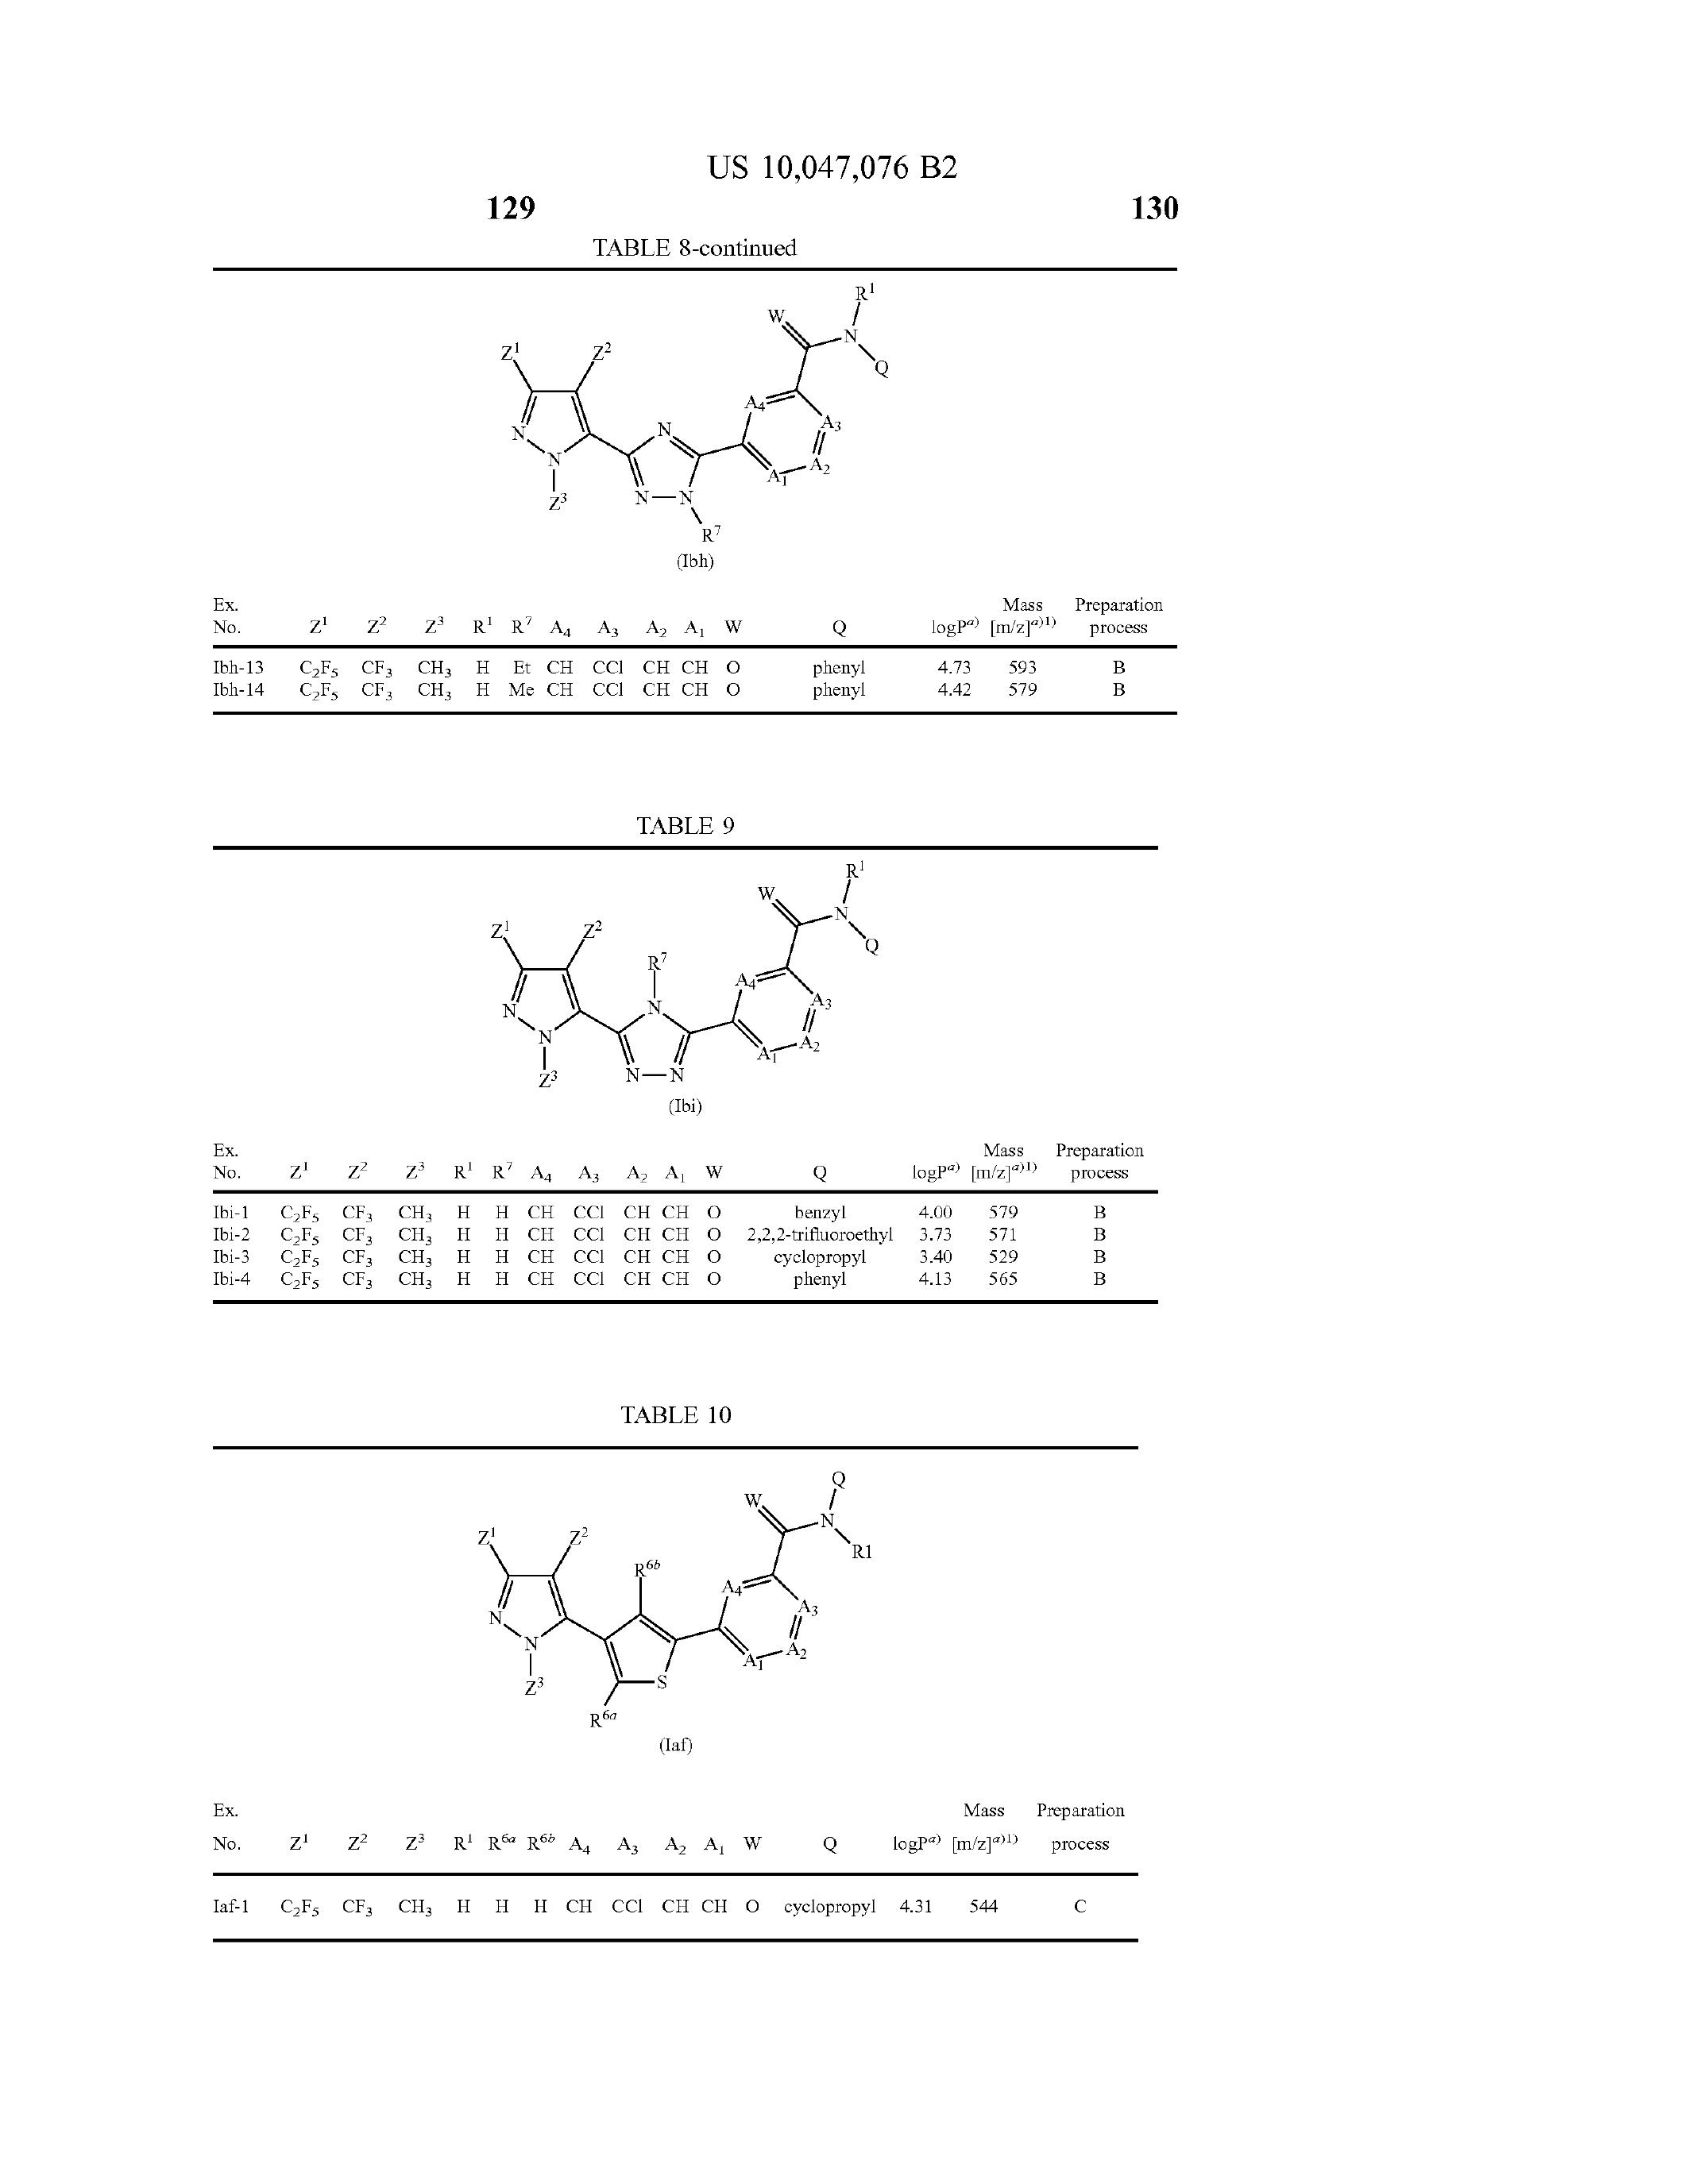relevant-structures: (402, 840, 998, 1143), (440, 255, 998, 578), (459, 1452, 993, 1762)
